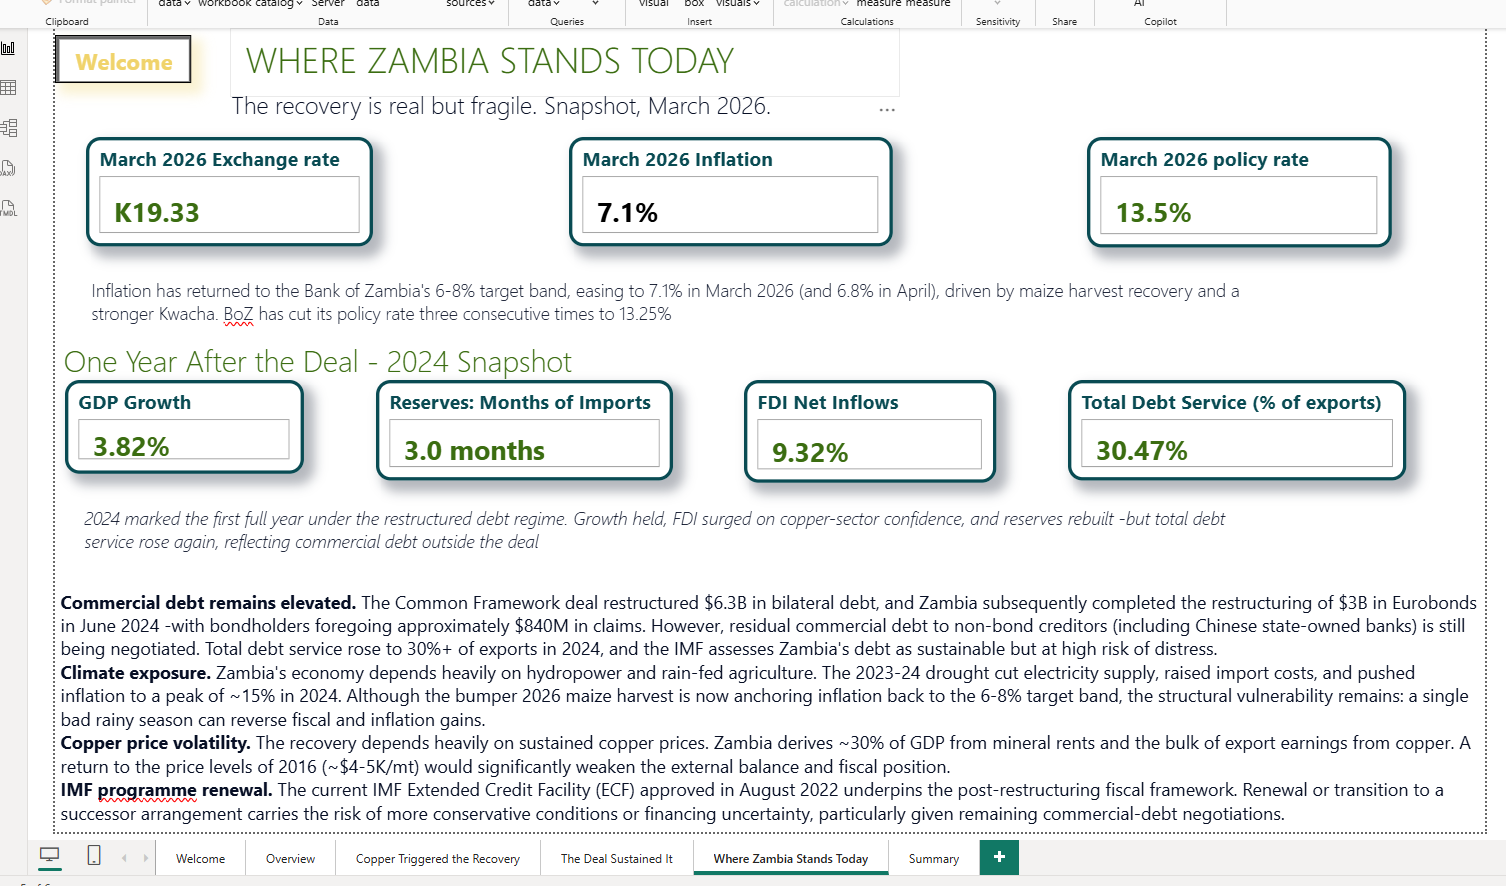

What the dashboard file says about the page in this screenshot:
{"tool":"powerbi","page":{"name":"Where Zambia Stands Today","canvas":[1280,720],"ordinal":4},"visuals":[{"type":"cardVisual","title":"March 2026 Exchange rate","fields":{"Data":["Debt_Detail.March 2026 Exchange Rate"]},"box":[28,97.9,257.3,98.4],"z":0},{"type":"cardVisual","title":"March 2026 Inflation ","fields":{"Data":["Debt_Detail.March 2026 Inflation"]},"box":[459.9,97.9,289.8,98.4],"z":1000},{"type":"cardVisual","title":"March 2026 policy rate","fields":{"Data":["Debt_Detail.March 2026  Policy Rate"]},"box":[924.3,97.5,272.6,99.3],"z":2000},{"type":"textbox","box":[157.1,0,599.4,61.4],"z":3000},{"type":"textbox","box":[153.5,49.6,534.4,50.6],"z":4000},{"type":"textbox","box":[2.3,273.8,524.5,47.4],"z":5000},{"type":"textbox","box":[28,218.4,1090.4,55.1],"z":6000},{"type":"cardVisual","title":"GDP Growth ","fields":{"Data":["Macro_Annual.GDP Growth 2024"]},"box":[9,315,213.9,83.9],"z":7000},{"type":"cardVisual","title":"Reserves: Months of Imports ","fields":{"Data":["Macro_Annual.Forex 2023"]},"box":[287.1,315,266.3,90.3],"z":8000},{"type":"cardVisual","title":"FDI Net Inflows","fields":{"Data":["Macro_Annual.FDI 2024"]},"box":[617.4,315,225.7,92.1],"z":9000},{"type":"cardVisual","title":"Total Debt Service (% of exports)","fields":{"Data":["Macro_Annual.Total Debt Service 2024"]},"box":[907.2,315,303.3,90.3],"z":10000},{"type":"textbox","box":[21.7,422.5,1075.1,60.5],"z":11000},{"type":"textbox","box":[0,498.3,1280,222.1],"z":12000},{"type":"actionButton","box":[0,6.3,121.9,43.3],"z":13000}]}

Visuals, with their boxes on the page's 1280x720 design canvas (x1, y1, x2, y2). These are canvas units, not pixel positions in the 1506x886 screenshot, which may show the page scaled, cropped or inside an application window:
"March 2026 Exchange rate" cardVisual: BBox(28, 98, 285, 196)
"March 2026 Inflation " cardVisual: BBox(460, 98, 750, 196)
"March 2026 policy rate" cardVisual: BBox(924, 98, 1197, 197)
textbox: BBox(157, 0, 756, 61)
textbox: BBox(154, 50, 688, 100)
textbox: BBox(2, 274, 527, 321)
textbox: BBox(28, 218, 1118, 274)
"GDP Growth " cardVisual: BBox(9, 315, 223, 399)
"Reserves: Months of Imports " cardVisual: BBox(287, 315, 553, 405)
"FDI Net Inflows" cardVisual: BBox(617, 315, 843, 407)
"Total Debt Service (% of exports)" cardVisual: BBox(907, 315, 1210, 405)
textbox: BBox(22, 422, 1097, 483)
textbox: BBox(0, 498, 1280, 720)
actionButton: BBox(0, 6, 122, 50)
